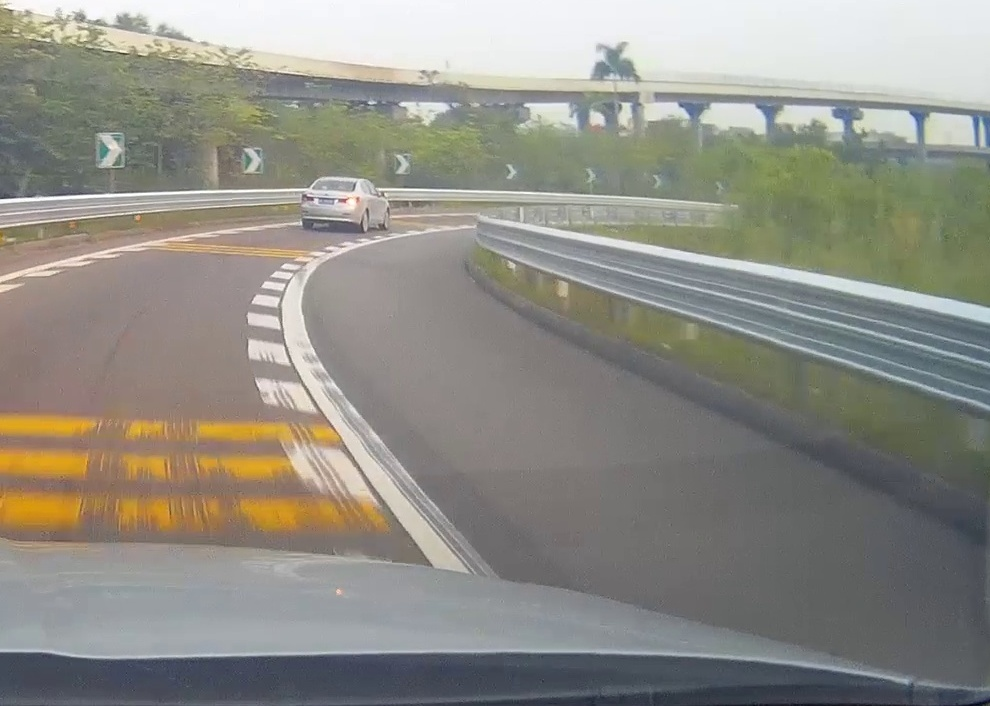L_light: (302, 193, 314, 202)
R_light: (338, 196, 360, 204)
T_light: (329, 180, 341, 184)
day-right: (301, 176, 362, 233)
